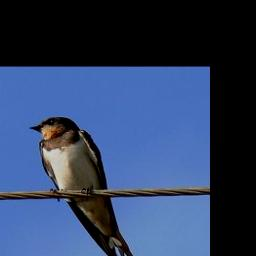Swallow: (27, 115, 136, 256)
